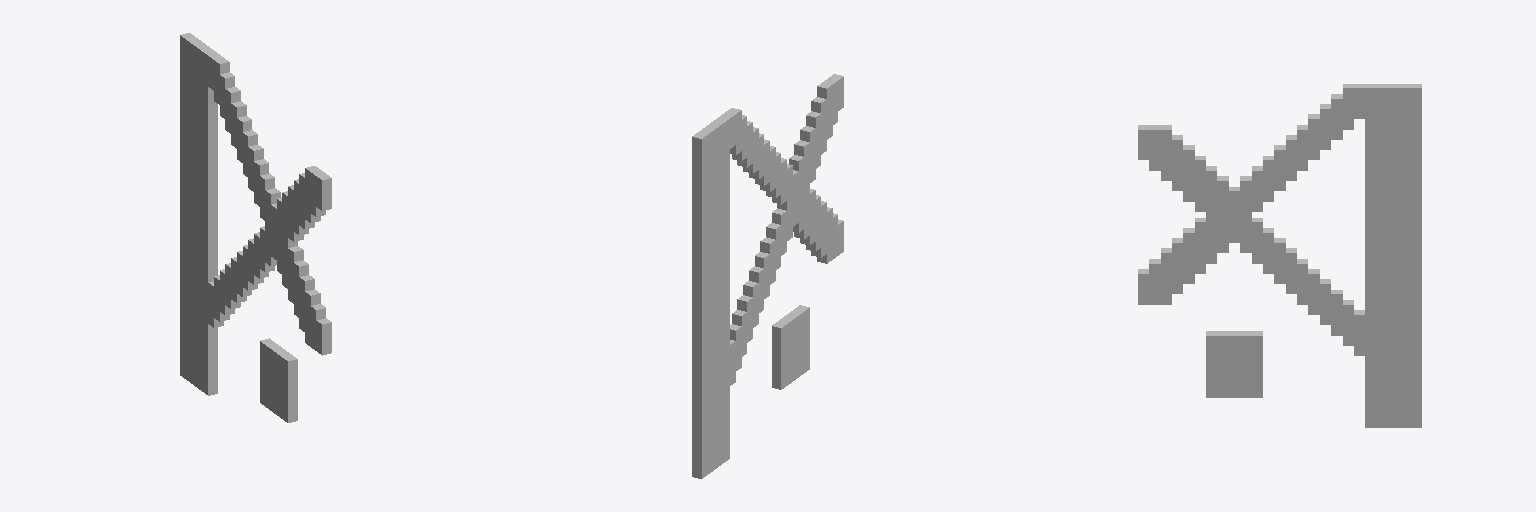
File: Factory Bits-5-Rune5.obj
3 views of the same model, side by side, from view 1: azimuth 30°, elevation 25°; view 2: azimuth 150°, elevation 25°; view 3: azimuth 270°, elevation 25° (orthographic).
Parts seen in each view (by area): view 1: Rune5; view 2: Rune5; view 3: Rune5.
Part boxes in pixels (bbox=[...]): Rune5: bbox=[180, 33, 331, 422]; Rune5: bbox=[692, 74, 843, 478]; Rune5: bbox=[1138, 84, 1421, 427].
Size of the model in its own units: 0.1 by 3.3 by 2.5.